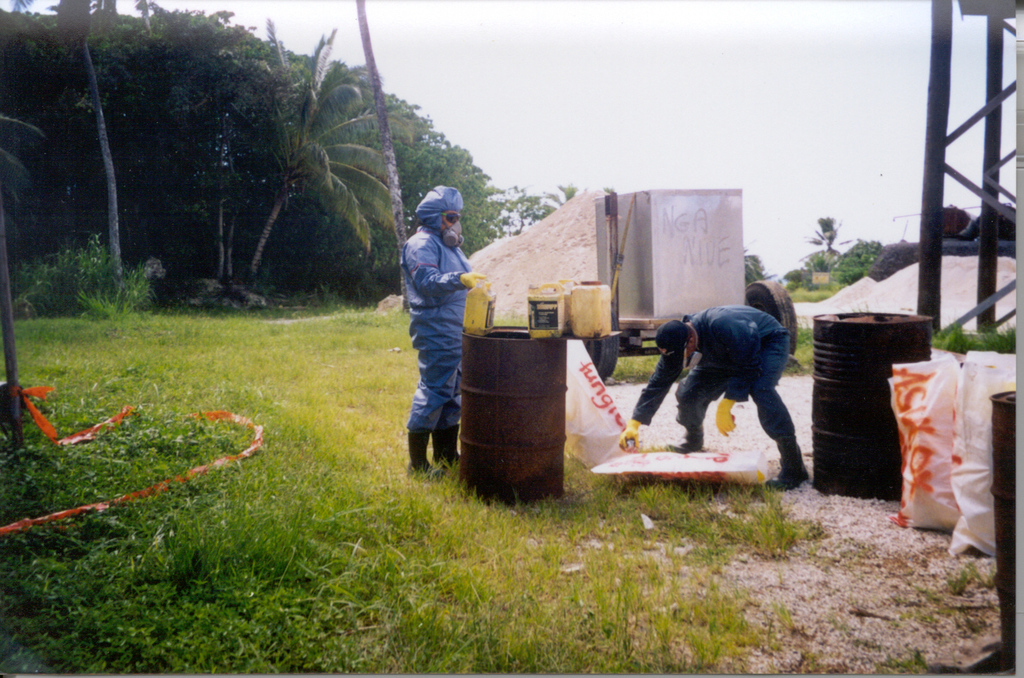person: (400, 188, 490, 475)
